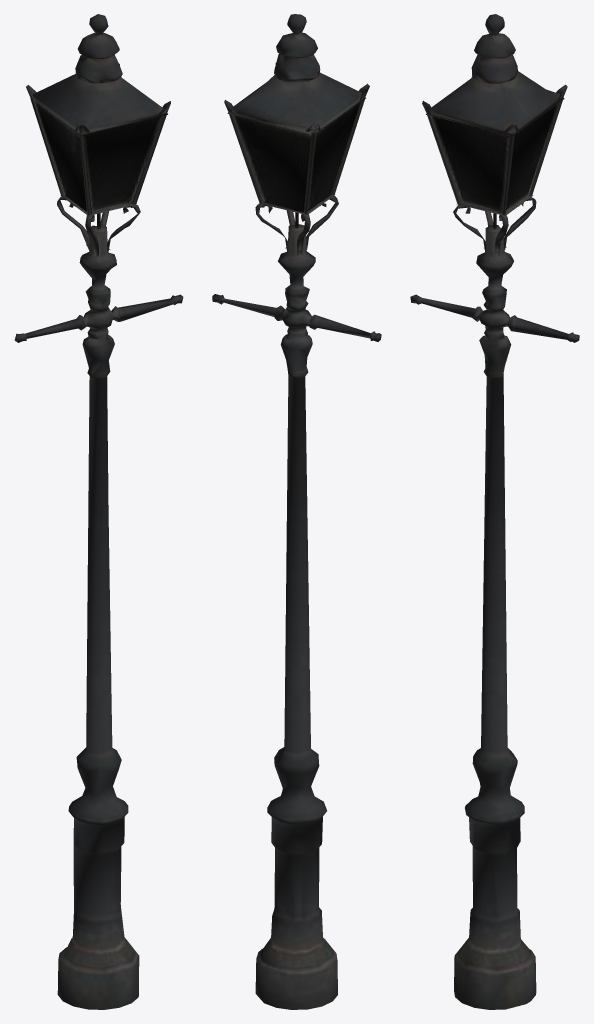
File: street_lamp_01.glb
3 views of the same model, side by side, from view 1: azimuth 30°, elevation 25°; view 2: azimuth 150°, elevation 25°; view 3: azimuth 330°, elevation 25° (orthographic).
Parts seen in each view (by area): view 1: street_lamp_01; view 2: street_lamp_01; view 3: street_lamp_01.
Boxes of the visible parts, left/top/right/bottom form: street_lamp_01: left=14, top=14, right=183, bottom=1009; street_lamp_01: left=212, top=14, right=381, bottom=1009; street_lamp_01: left=410, top=14, right=579, bottom=1009.
Bounding box in the file's own units: 0.6892 × 3.87 × 0.3844.
Materials: 3 (3 with a texture image).
